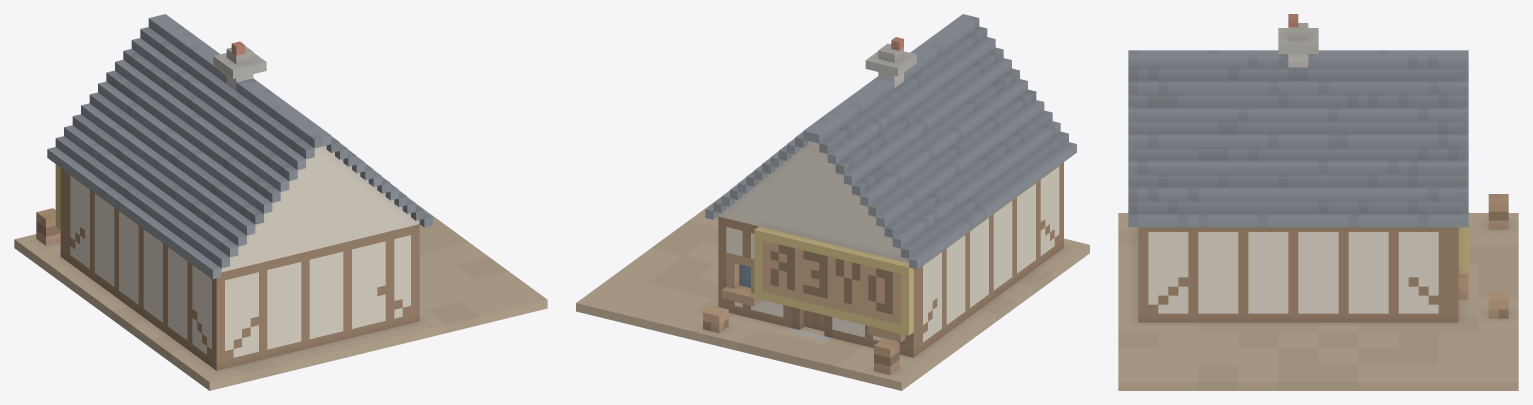
The model's file is dyer_works.glb.
The picture shows the model from 3 angles, left to right: view 1: azimuth 30°, elevation 25°; view 2: azimuth 150°, elevation 25°; view 3: azimuth 270°, elevation 25°; orthographic projection. The views are drawn at different scales.
Visible parts, largest first — view 1: dyer_works; view 2: dyer_works; view 3: dyer_works.
Boxes of the visible parts, x1,y1,x2,y2 form: dyer_works: (14,14,547,390); dyer_works: (576,14,1089,390); dyer_works: (1118,14,1518,390).
Bounding box in the file's own units: 5 × 3.62 × 5.
